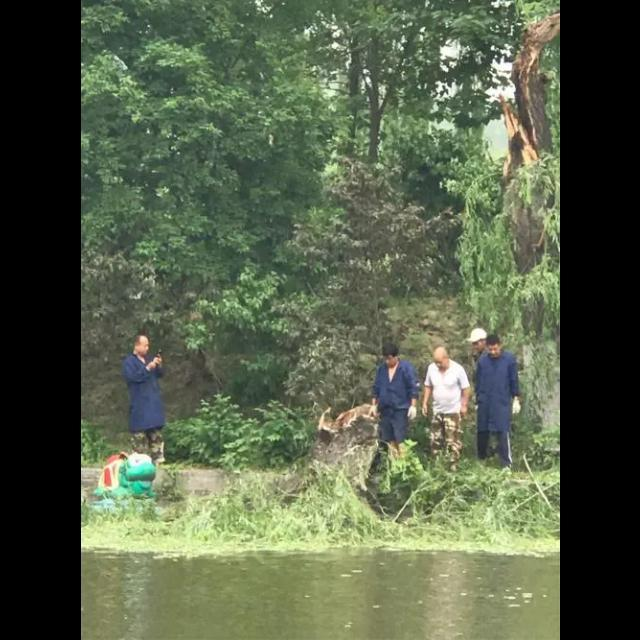fallen_tree: (175, 398, 559, 552)
